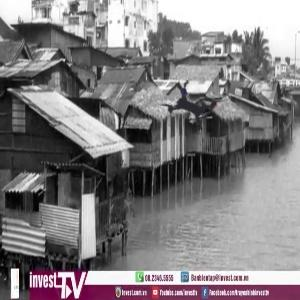drone: (142, 53, 247, 158)
